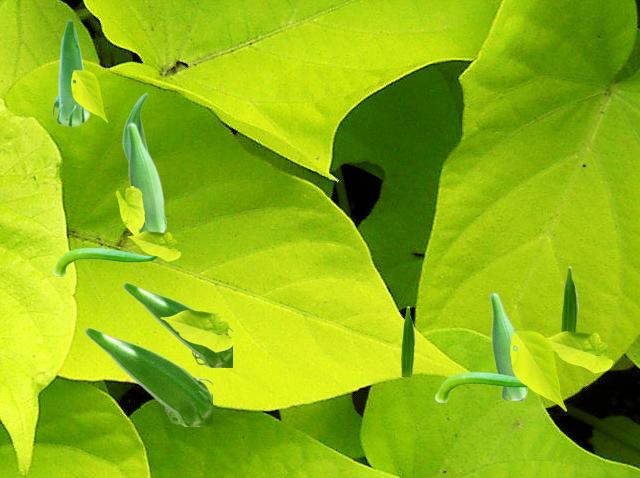okra: (84, 327, 211, 425), (122, 282, 231, 366), (126, 122, 165, 232), (489, 292, 526, 399), (52, 19, 89, 126), (53, 247, 157, 275), (435, 371, 526, 401), (122, 92, 148, 161), (561, 266, 577, 330), (401, 306, 414, 375)
